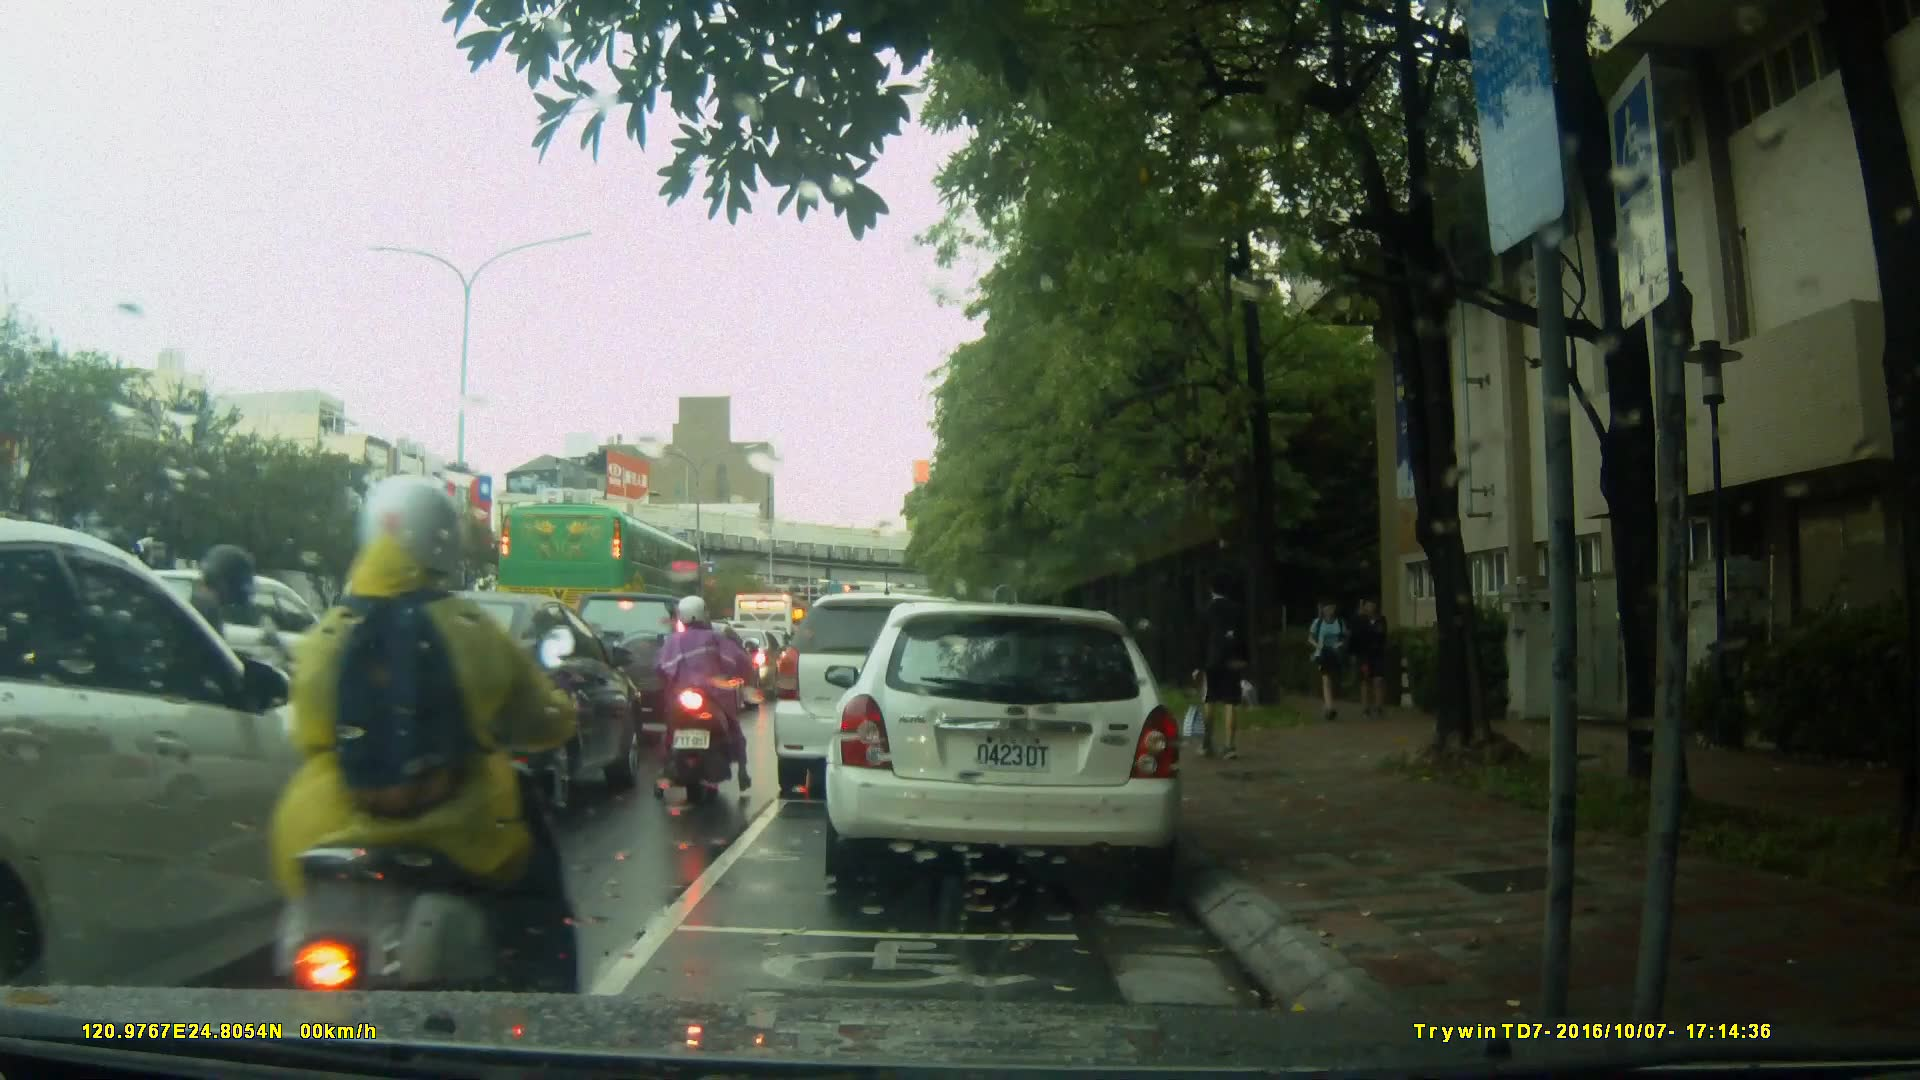pedestrian: (1186, 573, 1254, 763), (1308, 590, 1364, 725), (1347, 593, 1386, 719)
rider: (277, 470, 581, 1059), (659, 591, 755, 800), (307, 575, 397, 744)
vehicle: (1, 519, 371, 985), (831, 592, 1196, 897), (278, 589, 645, 819), (34, 568, 358, 757), (770, 592, 999, 800), (556, 582, 749, 751), (495, 502, 707, 644)
